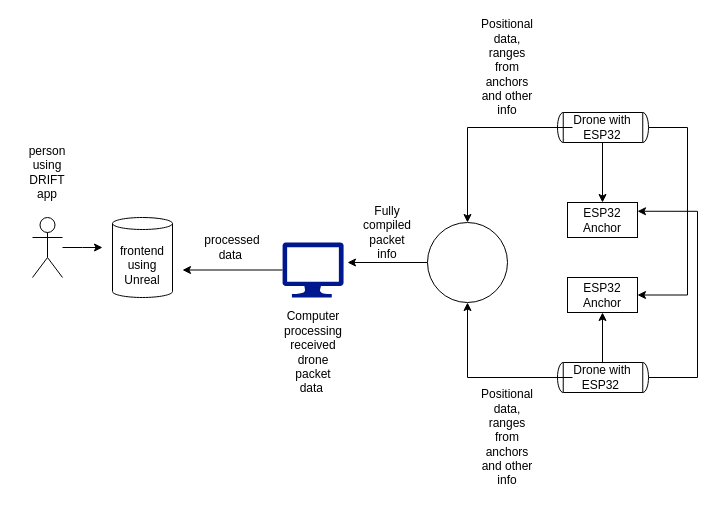
This 723x505 diagram has some shape labels left out. The shapes that lost their labels are listed below. From the top down, each one's box as (x1, y1, x2, y2) in pixels, then its label:
(32, 216, 62, 278): Actor
(426, 222, 508, 302): WIFI
